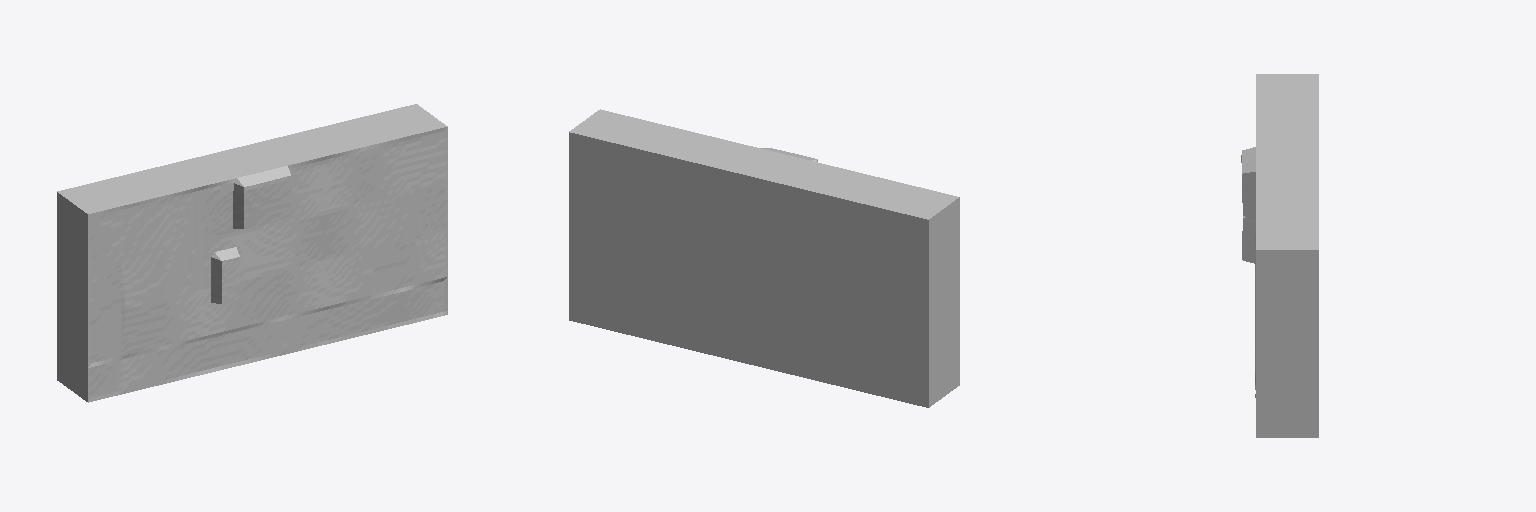
Rendered from rectangular_prism_bumps_6_6.obj.
3 renders of one model, left to right at view 1: azimuth 30°, elevation 25°; view 2: azimuth 150°, elevation 25°; view 3: azimuth 270°, elevation 25°, orthographic.
Bounding box in the file's own units: 10 × 5 × 1.86.